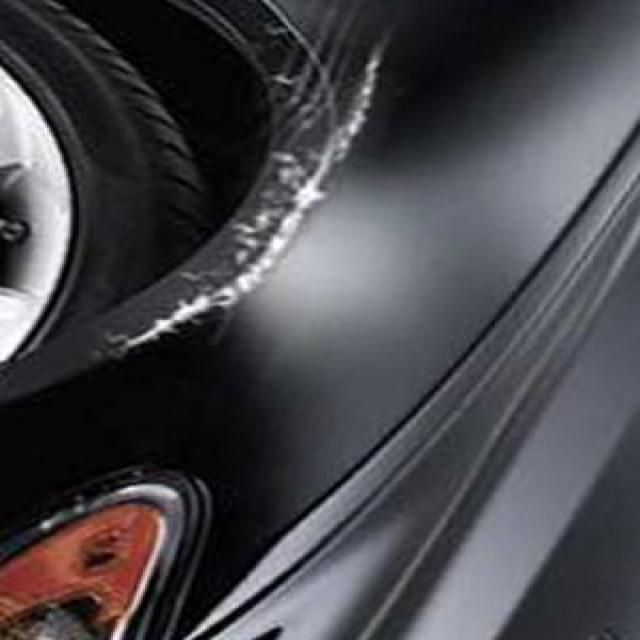scratch: (67, 28, 402, 364)
